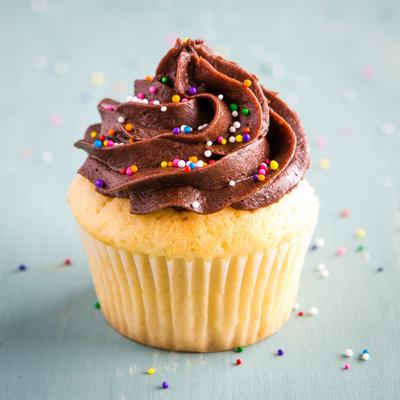cake: (65, 68, 324, 357)
